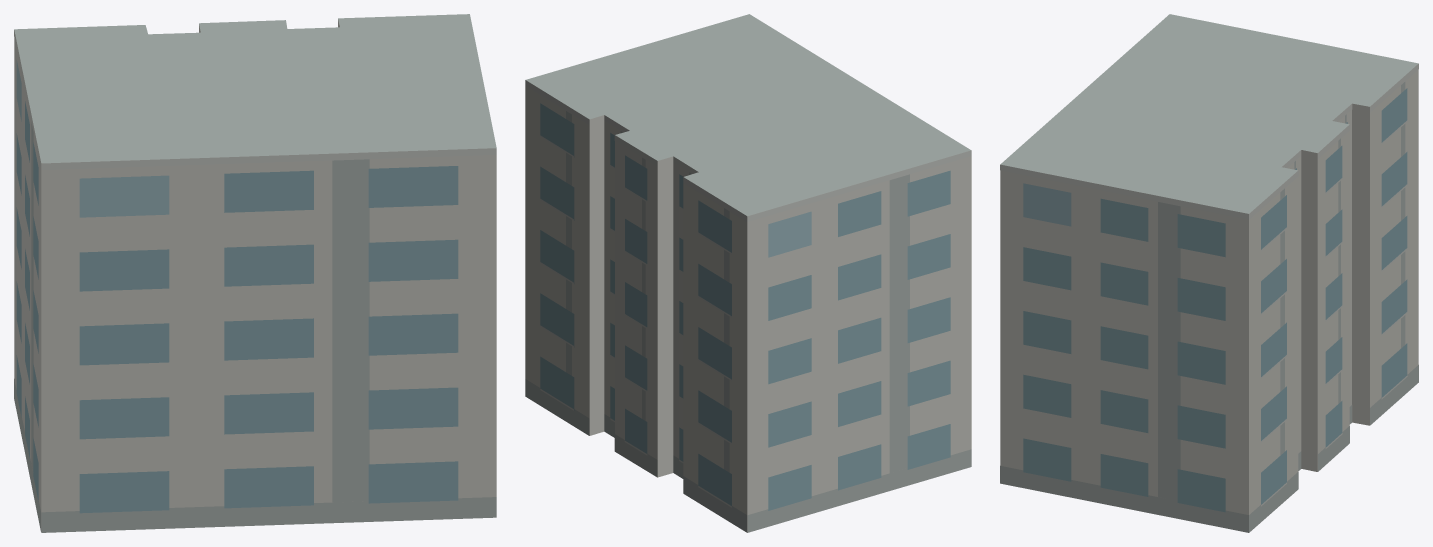
Rendered from survey-upis-32550855.glb.
3 renders of one model, left to right at view 1: azimuth 30°, elevation 25°; view 2: azimuth 150°, elevation 25°; view 3: azimuth 270°, elevation 25°, orthographic. The views are drawn at different scales.
Visible parts, largest first — view 1: survey-upis-32550855.tmp; view 2: survey-upis-32550855.tmp; view 3: survey-upis-32550855.tmp.
Part boxes in pixels (x1,y1,x2,y2): survey-upis-32550855.tmp: (14,14,496,532); survey-upis-32550855.tmp: (525,14,971,532); survey-upis-32550855.tmp: (1000,14,1418,532).
Size of the model in its own units: 17.62 by 13.1 by 15.59.
